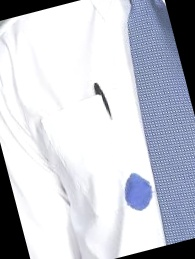ink: (119, 170, 155, 214)
